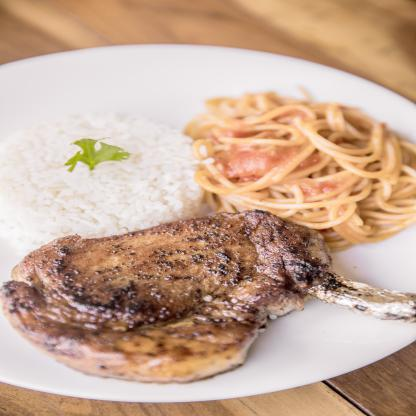Carne: (2, 205, 310, 379)
